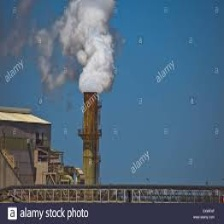smoke: (54, 2, 133, 94)
